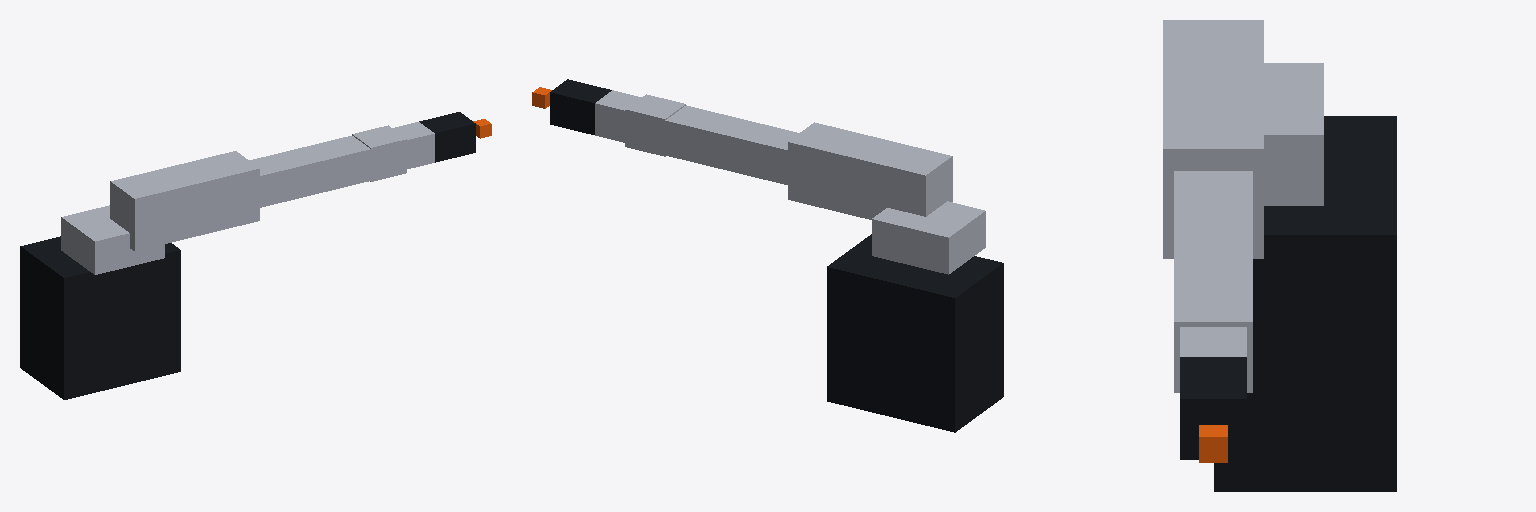
robot.urdf — six_axis_arm:
<?xml version="1.0" encoding="utf-8"?>
<!-- 六轴机械臂 · 参数化生成 (Z-up, 单位 m/s/rad) -->
<robot name="six_axis_arm">
  <link name="base_link">
    <inertial>
      <origin xyz="0.00000 0.06500 0.00000" rpy="0 0 0"/>
      <mass value="8.000"/>
      <inertia ixx="0.037933" ixy="0" ixz="0" iyy="0.053333" iyz="0" izz="0.037933"/>
    </inertial>
    <visual>
      <origin xyz="0.00000 0.06500 0.00000" rpy="0 0 0"/>
      <geometry>
        <box size="0.2000 0.1300 0.2000"/>
      </geometry>
      <material name="dark">
        <color rgba="0.13 0.14 0.16 1.00"/>
      </material>
    </visual>
    <collision>
      <origin xyz="0.00000 0.06500 0.00000" rpy="0 0 0"/>
      <geometry>
        <box size="0.2000 0.1300 0.2000"/>
      </geometry>
    </collision>
  </link>
  <link name="link1">
    <inertial>
      <origin xyz="0.00000 0.02800 0.00000" rpy="0 0 0"/>
      <mass value="4.500"/>
      <inertia ixx="0.004884" ixy="0" ixz="0" iyy="0.006534" iyz="0" izz="0.009150"/>
    </inertial>
    <visual>
      <origin xyz="0.00000 0.02800 0.00000" rpy="0 0 0"/>
      <geometry>
        <box size="0.1200 0.1000 0.0550"/>
      </geometry>
      <material name="alu">
        <color rgba="0.72 0.74 0.78 1.00"/>
      </material>
    </visual>
    <collision>
      <origin xyz="0.00000 0.02800 0.00000" rpy="0 0 0"/>
      <geometry>
        <box size="0.1200 0.1000 0.0550"/>
      </geometry>
    </collision>
  </link>
  <link name="link2">
    <inertial>
      <origin xyz="0.10750 0.00000 0.00000" rpy="0 0 0"/>
      <mass value="3.200"/>
      <inertia ixx="0.003355" ixy="0" ixz="0" iyy="0.014299" iyz="0" izz="0.013709"/>
    </inertial>
    <visual>
      <origin xyz="0.10750 0.00000 0.00000" rpy="0 0 0"/>
      <geometry>
        <box size="0.2150 0.0720 0.0860"/>
      </geometry>
      <material name="alu">
        <color rgba="0.72 0.74 0.78 1.00"/>
      </material>
    </visual>
    <collision>
      <origin xyz="0.10750 0.00000 0.00000" rpy="0 0 0"/>
      <geometry>
        <box size="0.2150 0.0720 0.0860"/>
      </geometry>
    </collision>
  </link>
  <link name="link3">
    <inertial>
      <origin xyz="0.09750 0.00000 0.00000" rpy="0 0 0"/>
      <mass value="1.600"/>
      <inertia ixx="0.000779" ixy="0" ixz="0" iyy="0.005431" iyz="0" izz="0.005488"/>
    </inertial>
    <visual>
      <origin xyz="0.09750 0.00000 0.00000" rpy="0 0 0"/>
      <geometry>
        <box size="0.1950 0.0560 0.0520"/>
      </geometry>
      <material name="alu">
        <color rgba="0.72 0.74 0.78 1.00"/>
      </material>
    </visual>
    <collision>
      <origin xyz="0.09750 0.00000 0.00000" rpy="0 0 0"/>
      <geometry>
        <box size="0.1950 0.0560 0.0520"/>
      </geometry>
    </collision>
  </link>
  <link name="link4">
    <inertial>
      <origin xyz="0.03100 0.00000 0.00000" rpy="0 0 0"/>
      <mass value="0.550"/>
      <inertia ixx="0.000287" ixy="0" ixz="0" iyy="0.000320" iyz="0" izz="0.000320"/>
    </inertial>
    <visual>
      <origin xyz="0.03100 0.00000 0.00000" rpy="0 0 0"/>
      <geometry>
        <box size="0.0620 0.0560 0.0560"/>
      </geometry>
      <material name="alu">
        <color rgba="0.72 0.74 0.78 1.00"/>
      </material>
    </visual>
    <collision>
      <origin xyz="0.03100 0.00000 0.00000" rpy="0 0 0"/>
      <geometry>
        <box size="0.0620 0.0560 0.0560"/>
      </geometry>
    </collision>
  </link>
  <link name="link5">
    <inertial>
      <origin xyz="0.02500 0.00000 0.00000" rpy="0 0 0"/>
      <mass value="0.350"/>
      <inertia ixx="0.000134" ixy="0" ixz="0" iyy="0.000140" iyz="0" izz="0.000140"/>
    </inertial>
    <visual>
      <origin xyz="0.02500 0.00000 0.00000" rpy="0 0 0"/>
      <geometry>
        <box size="0.0500 0.0480 0.0480"/>
      </geometry>
      <material name="alu">
        <color rgba="0.72 0.74 0.78 1.00"/>
      </material>
    </visual>
    <collision>
      <origin xyz="0.02500 0.00000 0.00000" rpy="0 0 0"/>
      <geometry>
        <box size="0.0500 0.0480 0.0480"/>
      </geometry>
    </collision>
  </link>
  <link name="link6">
    <inertial>
      <origin xyz="0.03500 0.00000 0.00000" rpy="0 0 0"/>
      <mass value="0.300"/>
      <inertia ixx="0.000115" ixy="0" ixz="0" iyy="0.000180" iyz="0" izz="0.000180"/>
    </inertial>
    <visual>
      <origin xyz="0.03500 0.00000 0.00000" rpy="0 0 0"/>
      <geometry>
        <box size="0.0700 0.0480 0.0480"/>
      </geometry>
      <material name="dark">
        <color rgba="0.13 0.14 0.16 1.00"/>
      </material>
    </visual>
    <collision>
      <origin xyz="0.03500 0.00000 0.00000" rpy="0 0 0"/>
      <geometry>
        <box size="0.0700 0.0480 0.0480"/>
      </geometry>
    </collision>
  </link>
  <link name="tcp">
    <inertial>
      <origin xyz="0.00000 0.00000 0.00000" rpy="0 0 0"/>
      <mass value="0.020"/>
      <inertia ixx="0.000001" ixy="0" ixz="0" iyy="0.000001" iyz="0" izz="0.000001"/>
    </inertial>
    <visual>
      <origin xyz="0.00000 0.00000 0.00000" rpy="0 0 0"/>
      <geometry>
        <box size="0.0200 0.0200 0.0200"/>
      </geometry>
      <material name="accent">
        <color rgba="0.94 0.42 0.10 1.00"/>
      </material>
    </visual>
    <collision>
      <origin xyz="0.00000 0.00000 0.00000" rpy="0 0 0"/>
      <geometry>
        <box size="0.0200 0.0200 0.0200"/>
      </geometry>
    </collision>
  </link>
  <joint name="j1_yaw" type="revolute">
    <parent link="base_link"/>
    <child link="link1"/>
    <origin xyz="0.00000 0.00000 0.13200" rpy="0 0 0"/>
    <axis xyz="0.00000 0.00000 1.00000"/>
    <limit lower="-2.9671" upper="2.9671" effort="80.0" velocity="2.00"/>
    <dynamics damping="0.15" friction="0.05"/>
  </joint>
  <joint name="j2_shoulder" type="revolute">
    <parent link="link1"/>
    <child link="link2"/>
    <origin xyz="0.00000 0.00000 0.04600" rpy="0 0 0"/>
    <axis xyz="0.00000 -1.00000 0.00000"/>
    <limit lower="-1.7453" upper="1.7453" effort="80.0" velocity="2.00"/>
    <dynamics damping="0.15" friction="0.05"/>
  </joint>
  <joint name="j3_elbow" type="revolute">
    <parent link="link2"/>
    <child link="link3"/>
    <origin xyz="0.21500 0.00000 0.00000" rpy="0 0 0"/>
    <axis xyz="0.00000 -1.00000 0.00000"/>
    <limit lower="-2.1817" upper="2.1817" effort="60.0" velocity="2.50"/>
    <dynamics damping="0.15" friction="0.05"/>
  </joint>
  <joint name="j4_roll" type="revolute">
    <parent link="link3"/>
    <child link="link4"/>
    <origin xyz="0.19500 0.00000 0.00000" rpy="0 0 0"/>
    <axis xyz="1.00000 0.00000 0.00000"/>
    <limit lower="-3.1416" upper="3.1416" effort="20.0" velocity="3.00"/>
    <dynamics damping="0.15" friction="0.05"/>
  </joint>
  <joint name="j5_pitch" type="revolute">
    <parent link="link4"/>
    <child link="link5"/>
    <origin xyz="0.06200 0.00000 0.00000" rpy="0 0 0"/>
    <axis xyz="0.00000 -1.00000 0.00000"/>
    <limit lower="-2.0944" upper="2.0944" effort="10.0" velocity="3.00"/>
    <dynamics damping="0.15" friction="0.05"/>
  </joint>
  <joint name="j6_roll" type="revolute">
    <parent link="link5"/>
    <child link="link6"/>
    <origin xyz="0.05000 0.00000 0.00000" rpy="0 0 0"/>
    <axis xyz="1.00000 0.00000 0.00000"/>
    <limit lower="-6.2832" upper="6.2832" effort="5.0" velocity="3.00"/>
    <dynamics damping="0.15" friction="0.05"/>
  </joint>
  <joint name="tcp_fixed" type="fixed">
    <parent link="link6"/>
    <child link="tcp"/>
    <origin xyz="0.09500 0.00000 0.00000" rpy="0 0 0"/>
  </joint>
</robot>

--- Facts derived from the render (not from the file) ---
3 views of the same robot in one strip: view 1: azimuth 30°, elevation 25°; view 2: azimuth 150°, elevation 25°; view 3: azimuth 270°, elevation 25° (orthographic).
Robot: six_axis_arm — 8 links, 7 joints (6 revolute, 1 fixed); root link base_link; default pose: every joint at zero.
Links seen in each view (by area): view 1: base_link, link2, link3, link1, link4, link6, link5; view 2: base_link, link2, link3, link1, link4, link6, link5; view 3: base_link, link2, link3, link1, link6, link4, link5, tcp.
Boxes of the visible links, left/top/right/bottom form: base_link: left=20, top=236, right=180, bottom=399; link2: left=110, top=151, right=259, bottom=250; link3: left=249, top=136, right=370, bottom=207; link1: left=61, top=205, right=164, bottom=274; link4: left=352, top=125, right=406, bottom=181; link6: left=419, top=112, right=475, bottom=162; link5: left=393, top=122, right=434, bottom=168; base_link: left=827, top=234, right=1003, bottom=432; link2: left=788, top=122, right=952, bottom=219; link3: left=665, top=105, right=798, bottom=184; link1: left=872, top=201, right=985, bottom=274; link4: left=625, top=94, right=685, bottom=156; link6: left=550, top=79, right=611, bottom=134; link5: left=595, top=90, right=641, bottom=142; base_link: left=1214, top=116, right=1396, bottom=491; link2: left=1163, top=20, right=1263, bottom=258; link3: left=1174, top=171, right=1252, bottom=284; link1: left=1264, top=63, right=1323, bottom=205; link6: left=1180, top=357, right=1246, bottom=459; link4: left=1174, top=285, right=1252, bottom=392; link5: left=1180, top=327, right=1246, bottom=356; tcp: left=1199, top=425, right=1227, bottom=462.
Bounding box of the posed robot: 0.727 × 0.166 × 0.321 m (x, y, z).
Geometry: primitives only (box / cylinder / sphere), no mesh files.
